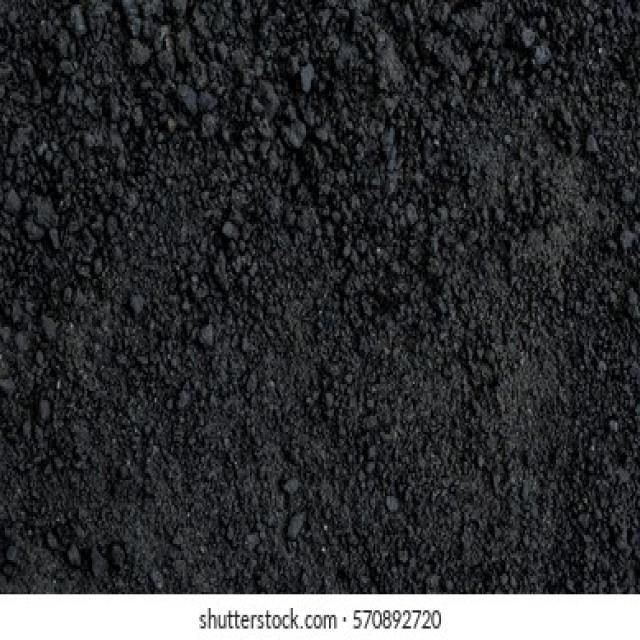Black Soil: (64, 48, 608, 538)
